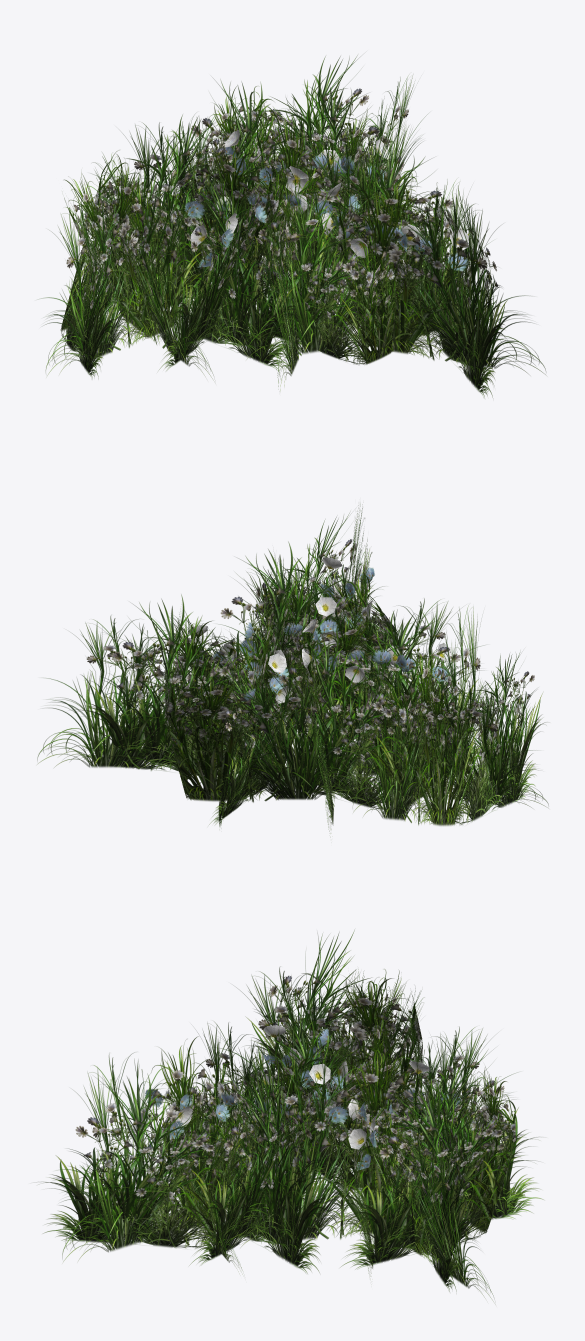
File: grass_v3.glb
3 renders of one model, top to bottom at view 1: azimuth 30°, elevation 25°; view 2: azimuth 150°, elevation 25°; view 3: azimuth 270°, elevation 25°, orthographic. The views are drawn at different scales.
Size of the model in its own units: 5735 by 2251 by 5570.
3 materials, 3 textured.
